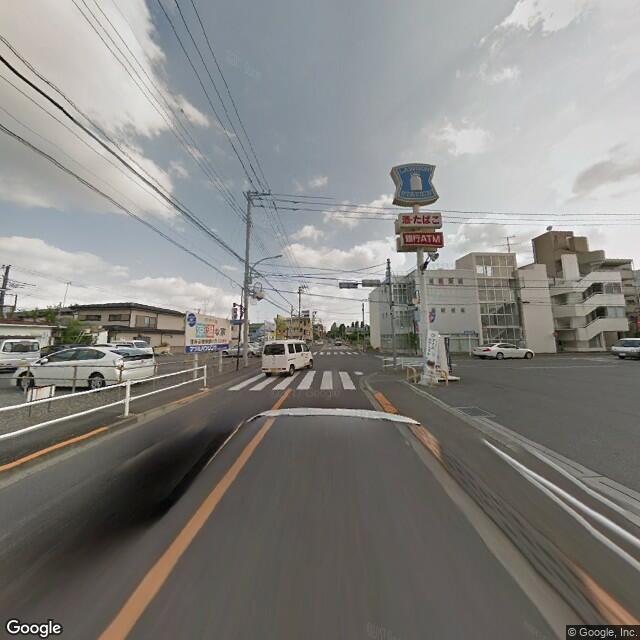lawson: (387, 154, 440, 207)
